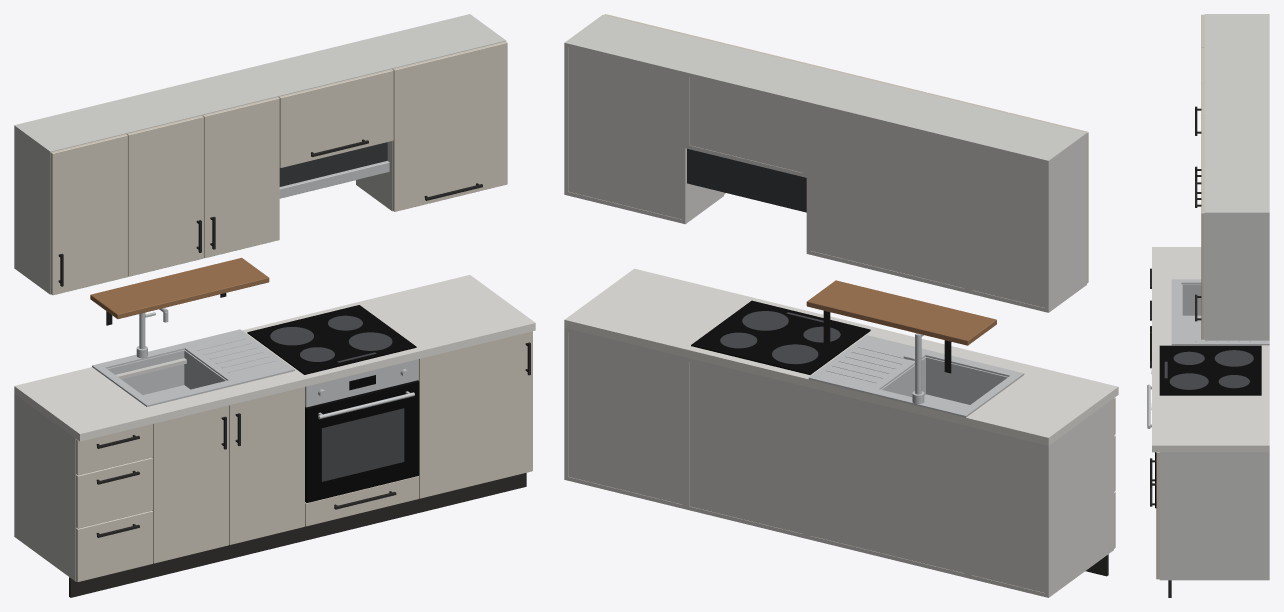
Rendered from 50_aneks_240.glb.
3 renders of one model, left to right at view 1: azimuth 30°, elevation 25°; view 2: azimuth 150°, elevation 25°; view 3: azimuth 270°, elevation 25°, orthographic. The views are drawn at different scales.
Parts seen in each view (by area): view 1: E09_gorna_80, E02_szafka_zlewowa_80, E05_blat_240_Blat, E12_gorna_klapa_60_Front_klapa, E04_szafka_60_Front_drzwi, E08_gorna_40_Front_drzwi, E01_szafka_szuflady_40, E01_szafka_szuflady_40_Korpus, E10_gorna_nad_okap_60_Front_klapa, E08_gorna_40_Korpus, E06_zlew_Zlew, E03_szafka_piekarnik_60_Piekarnik_drzwi (+15 smaller); view 2: E09_gorna_80_Korpus, E02_szafka_zlewowa_80_Korpus, E12_gorna_klapa_60_Korpus, E01_szafka_szuflady_40_Korpus, E05_blat_240_Blat, E08_gorna_40_Korpus, E03_szafka_piekarnik_60_Korpus, E04_szafka_60_Korpus, E10_gorna_nad_okap_60_Korpus, E06_zlew_Zlew, E13_polka_Polka, E07_plyta_indukcyjna_Plyta_indukcyjna (+2 smaller); view 3: E04_szafka_60_Korpus, E12_gorna_klapa_60_Korpus, E05_blat_240_Blat, E09_gorna_80_Korpus, E07_plyta_indukcyjna_Plyta_indukcyjna, E10_gorna_nad_okap_60_Korpus, E06_zlew_Zlew, E08_gorna_40_Korpus, E07_plyta_indukcyjna_Plyta_strefy, E12_gorna_klapa_60_Front_klapa, E04_szafka_60_Front_drzwi, E09_gorna_80 (+2 smaller).
Part boxes in pixels (box(x1,y1,x2,y2)): E09_gorna_80: box(126, 97, 279, 276); E02_szafka_zlewowa_80: box(152, 387, 304, 563); E05_blat_240_Blat: box(14, 275, 535, 441); E12_gorna_klapa_60_Front_klapa: box(392, 41, 507, 211); E04_szafka_60_Front_drzwi: box(418, 331, 532, 498); E08_gorna_40_Front_drzwi: box(50, 134, 127, 295); E01_szafka_szuflady_40: box(76, 424, 152, 581); E01_szafka_szuflady_40_Korpus: box(14, 394, 76, 581); E10_gorna_nad_okap_60_Front_klapa: box(278, 69, 393, 167); E08_gorna_40_Korpus: box(14, 107, 126, 294); E06_zlew_Zlew: box(92, 329, 294, 406); E03_szafka_piekarnik_60_Piekarnik_drzwi: box(305, 380, 419, 502); E09_gorna_80_Korpus: box(806, 73, 1005, 292); E02_szafka_zlewowa_80_Korpus: box(806, 387, 967, 578); E12_gorna_klapa_60_Korpus: box(564, 14, 723, 224); E01_szafka_szuflady_40_Korpus: box(968, 398, 1113, 597); E05_blat_240_Blat: box(564, 268, 1118, 445); E08_gorna_40_Korpus: box(968, 113, 1086, 312); E03_szafka_piekarnik_60_Korpus: box(685, 357, 806, 538); E04_szafka_60_Korpus: box(564, 328, 685, 508); E10_gorna_nad_okap_60_Korpus: box(685, 44, 844, 177); E06_zlew_Zlew: box(808, 335, 1024, 417); E13_polka_Polka: box(806, 280, 996, 345); E07_plyta_indukcyjna_Plyta_indukcyjna: box(691, 300, 870, 374); E04_szafka_60_Korpus: box(1159, 452, 1269, 580); E12_gorna_klapa_60_Korpus: box(1205, 163, 1269, 340); E05_blat_240_Blat: box(1152, 247, 1269, 452); E09_gorna_80_Korpus: box(1205, 47, 1269, 113); E07_plyta_indukcyjna_Plyta_indukcyjna: box(1159, 345, 1261, 395); E10_gorna_nad_okap_60_Korpus: box(1205, 113, 1269, 162); E06_zlew_Zlew: box(1171, 279, 1269, 345); E08_gorna_40_Korpus: box(1205, 14, 1269, 46); E07_plyta_indukcyjna_Plyta_strefy: box(1164, 350, 1253, 389); E12_gorna_klapa_60_Front_klapa: box(1201, 163, 1204, 339); E04_szafka_60_Front_drzwi: box(1156, 452, 1159, 579); E09_gorna_80: box(1201, 48, 1204, 113).
Size of the model in its own units: 2.4 by 2.17 by 0.625.
